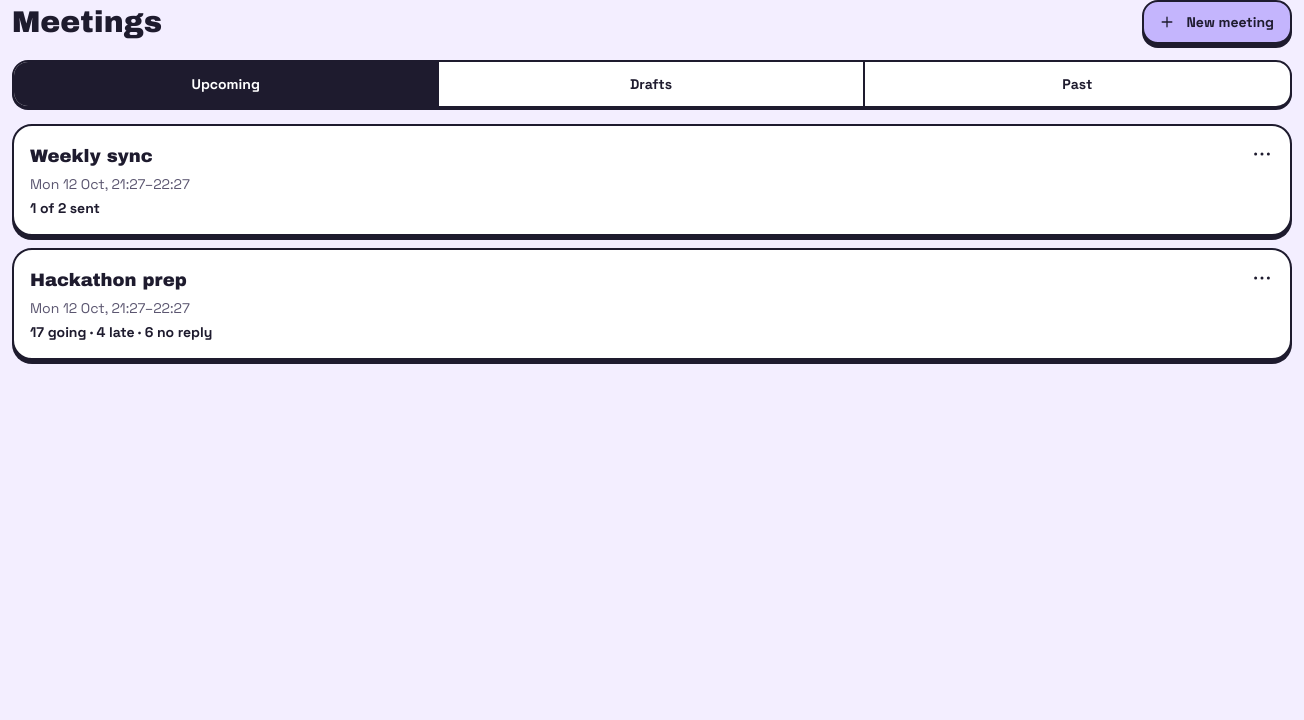
MeetingsList › loads more past meetings on Show more
Check: the link "Weekly sync Mon 12 Oct, 21:27–22:27 1 of 2 sent" is shown, box 12,124 -> 1292,236
Click the radio button labelled "Past": click(1077, 84) 865,62 -> 1290,106
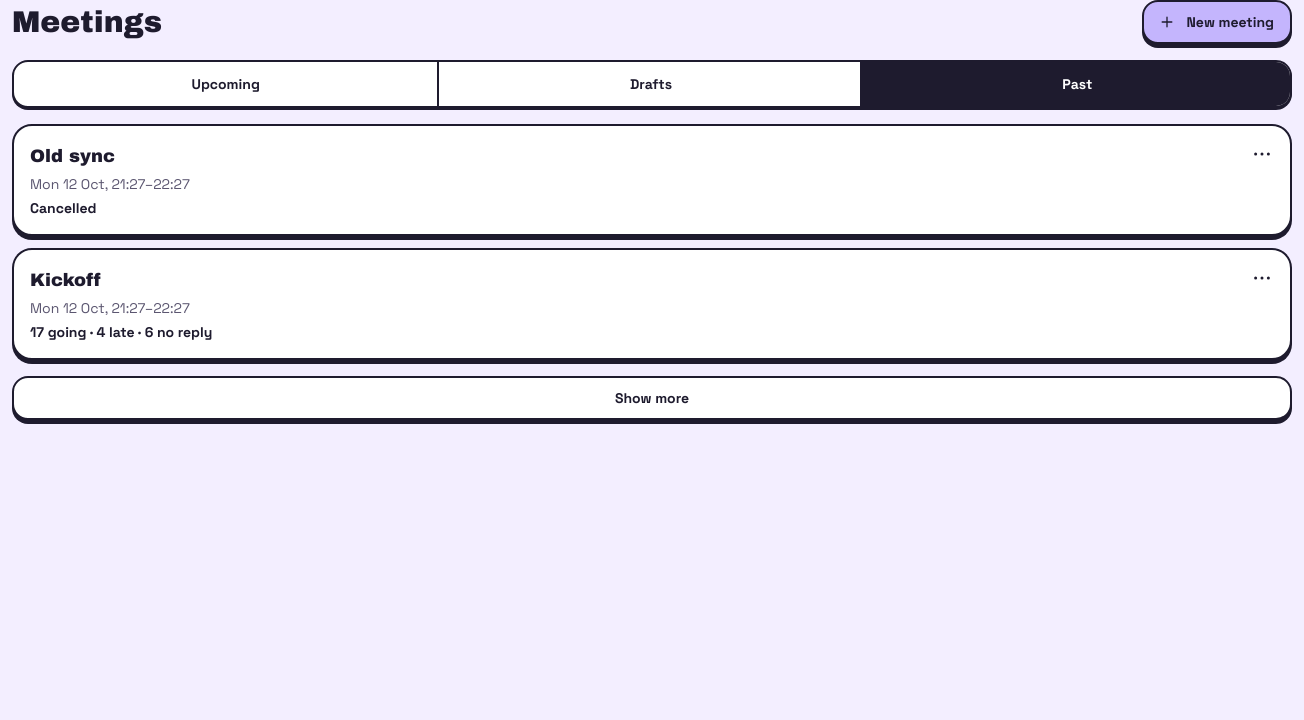
Check: the link "Kickoff" is shown, box 12,248 -> 1292,360
Click the button "Show more": click(652, 398) 12,376 -> 1292,420
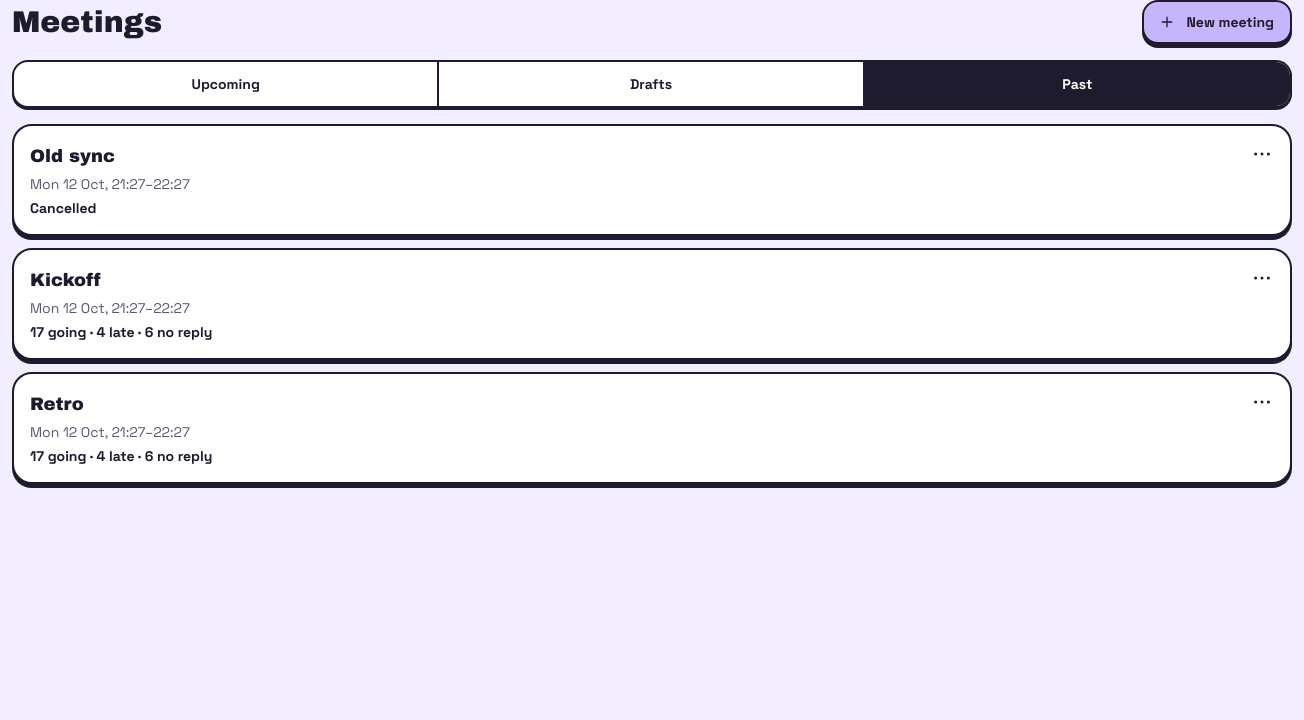
Check: the link "Retro Mon 12 Oct, 21:27–22:27 17 going · 4 late · 6 no reply" is shown, box 12,372 -> 1292,484
Check: the button "Show more" is gone
